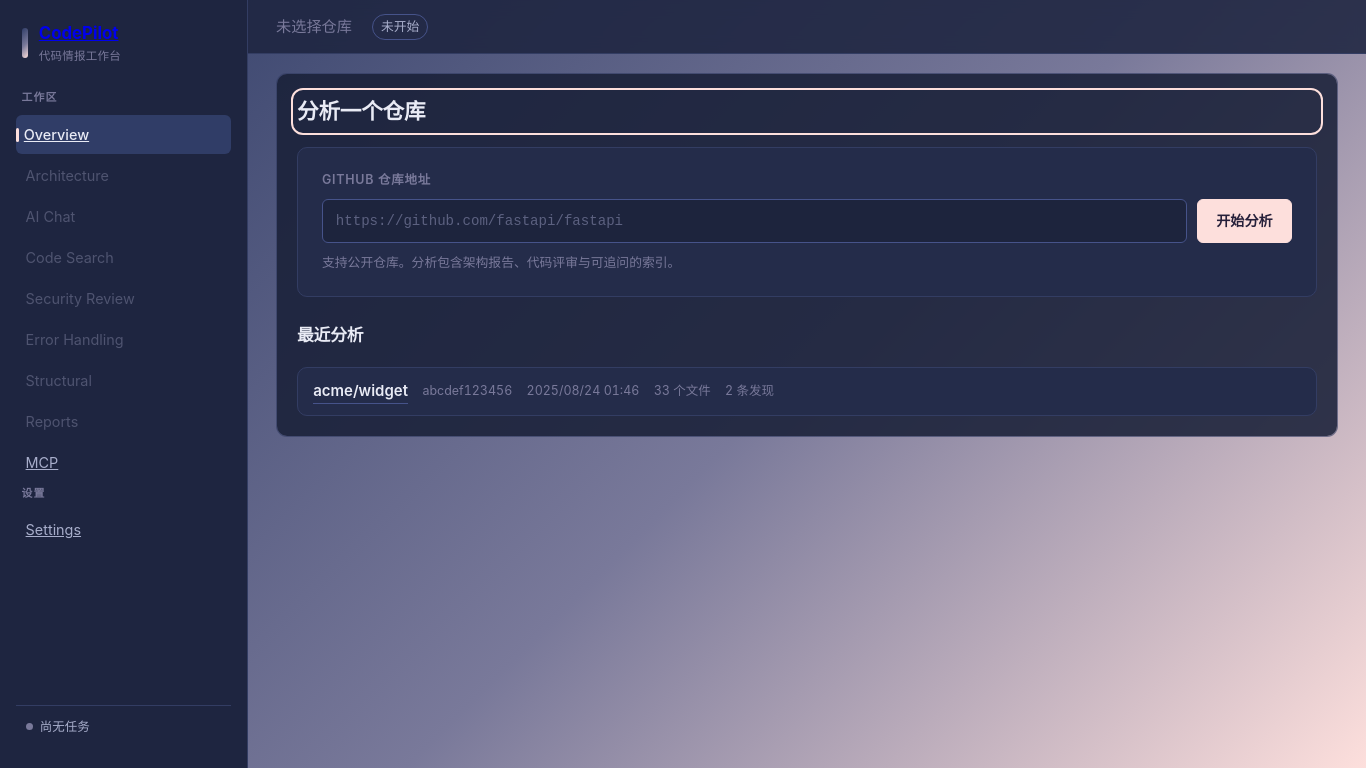
提交入口 › 提交被限流时呈现可重试提示（R-53 的前端侧）
This screenshot has width=1366, height=768.
In the field labelled "GitHub 仓库地址": (755, 221) 322,199 -> 1187,243, type "https://github.com/acme/widget"
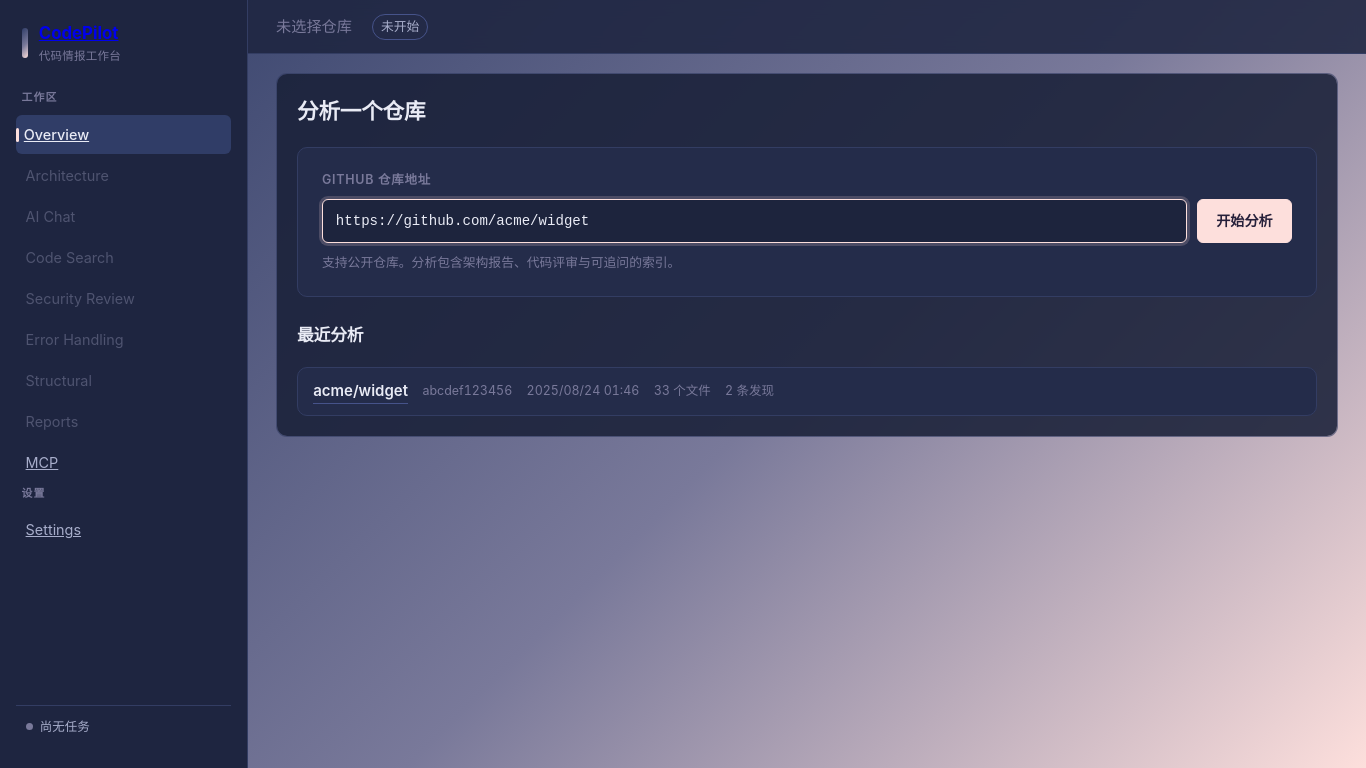
Click the button "开始分析": (1244, 221) 1197,199 -> 1292,243
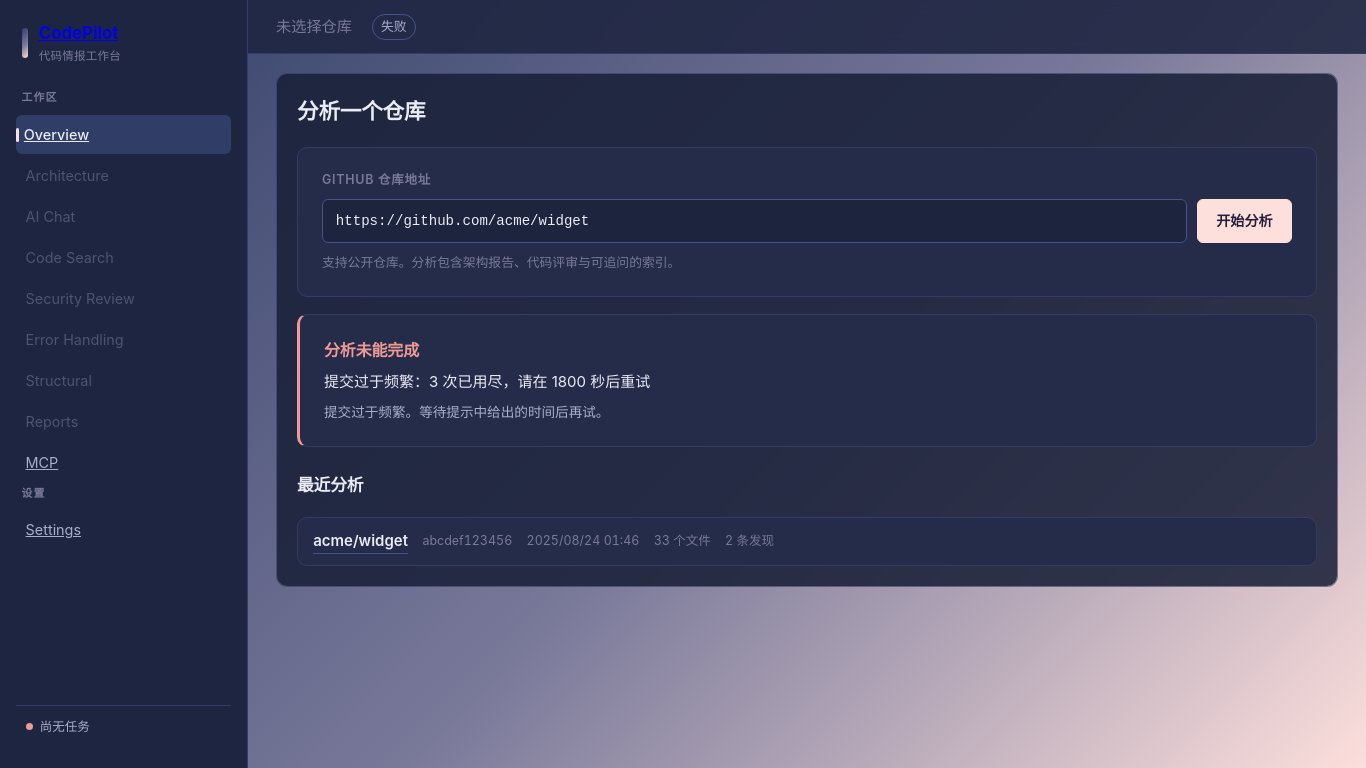
Check: the heading "分析一个仓库" is shown, box 297,98 -> 425,124
Check: the message shows "1800 秒后重试", box 324,372 -> 650,390
